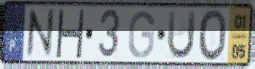3: (95, 7, 121, 62)
G: (126, 9, 157, 60)
H: (54, 8, 87, 61)
N: (25, 7, 56, 61)
O: (198, 8, 228, 63)
U: (165, 9, 198, 62)
